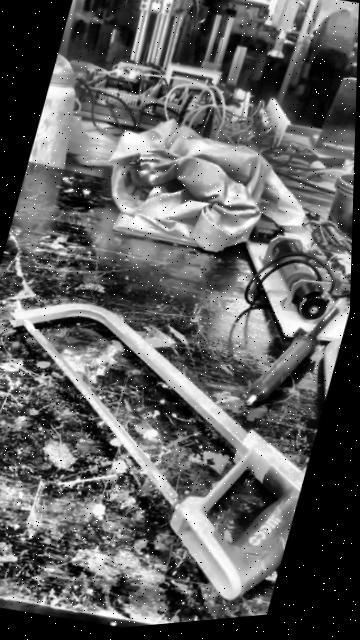pot: (317, 175, 354, 253)
